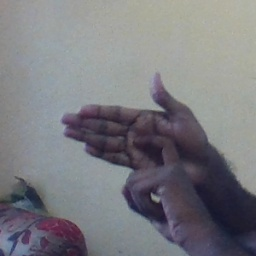R: (56, 66, 208, 213)
